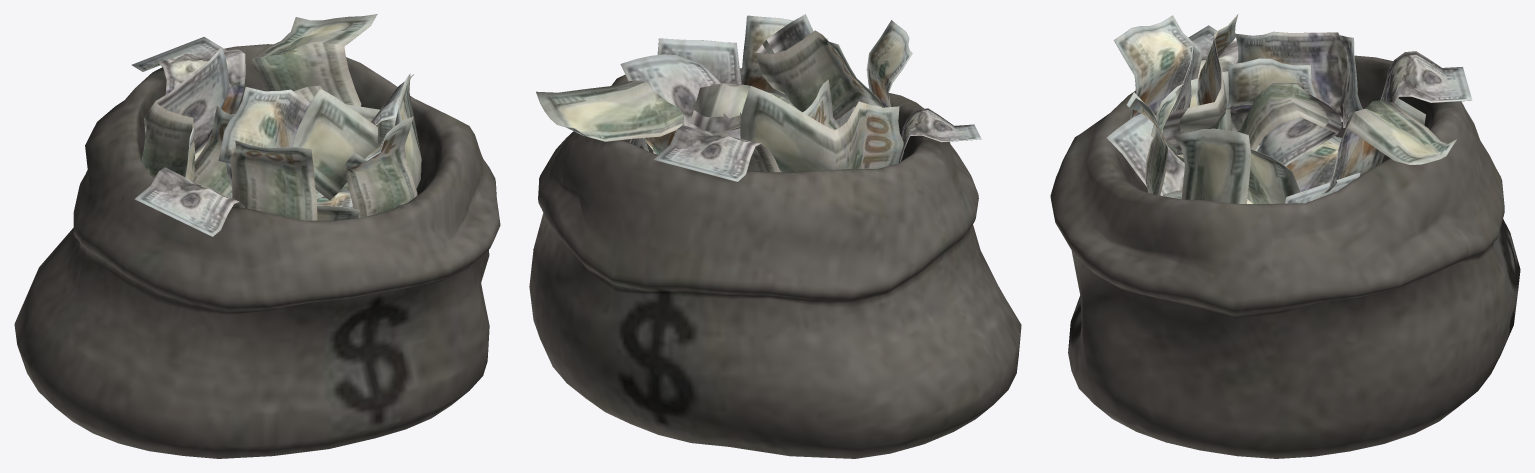
File: saco_dinheiro.glb
The picture shows the model from 3 angles, left to right: view 1: azimuth 30°, elevation 25°; view 2: azimuth 150°, elevation 25°; view 3: azimuth 270°, elevation 25°; orthographic projection. The views are drawn at different scales.
Visible parts, largest first — view 1: Sphere; view 2: Sphere; view 3: Sphere.
Boxes of the visible parts, x1=… form: Sphere: x1=14, y1=14, x2=500, y2=458; Sphere: x1=529, y1=14, x2=1021, y2=458; Sphere: x1=1050, y1=14, x2=1520, y2=458.
Bounding box in the file's own units: 0.1147 × 0.084 × 0.1037.
1 material, 1 textured.
